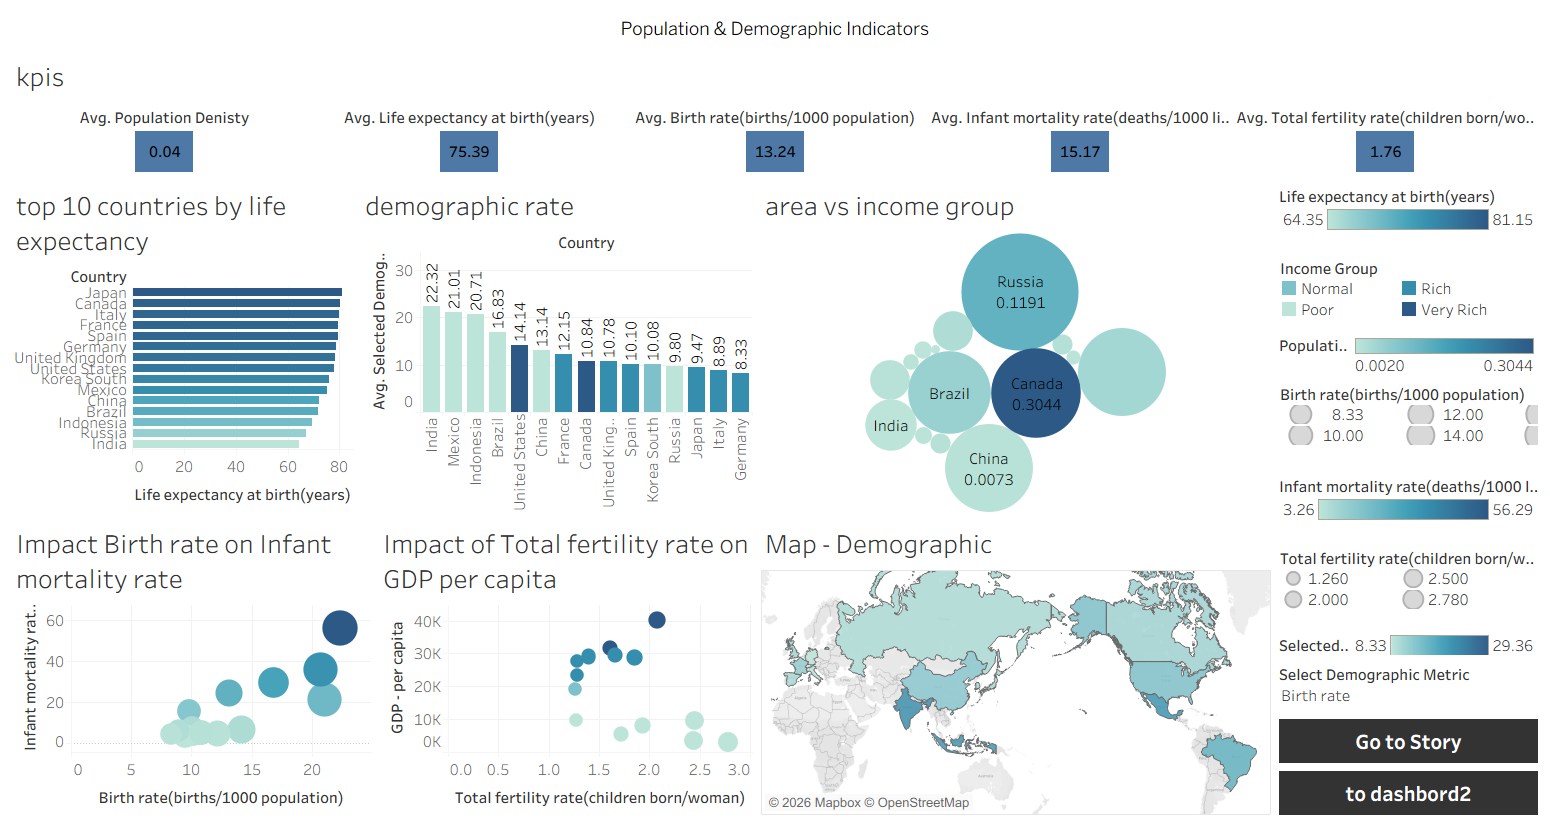

The page's visual inventory and layout, read from the dashboard file:
{"tool":"tableau","page":{"name":"Dashboard 1","canvas":[1550,827],"ordinal":0},"visuals":[{"type":"text","box":[8,8,1534,41]},{"type":"worksheet","title":"kpis 1","mark":"Square","box":[8,49,1534,129]},{"type":"worksheet","title":"top 10 countries by life expectancy","mark":"Automatic","rows":["Country"],"cols":["Life expectancy at birth(years)"],"box":[8,178,349.5,337.5]},{"type":"worksheet","title":"demographic rate","mark":"Automatic","rows":["Calculation_1860428019335172"],"cols":["Country"],"box":[357.5,178,399.3,337.5]},{"type":"worksheet","title":"area vs income group","mark":"Circle","box":[756.7,178,518.3,337.5]},{"type":"legend","title":"top 10 countries by life expectancy","param":"[federated.0arbnf50yyzaqr17demmi00kzyr3].[sum:Life expectancy at birth(years):qk","box":[1275,178,267,73]},{"type":"legend","title":"demographic rate","param":"[federated.0arbnf50yyzaqr17demmi00kzyr3].[none:Calculation_1860428013744130:nk]","box":[1275,251,267,78]},{"type":"legend","title":"area vs income group","param":"[federated.0arbnf50yyzaqr17demmi00kzyr3].[sum:Calculation_1860428013441025:qk]","box":[1275,329,267,48]},{"type":"legend","title":"Impact Birth rate on Infant mortality rate","param":"[federated.0arbnf50yyzaqr17demmi00kzyr3].[sum:Birth rate(births/1000 population)","box":[1275,377,267,92]},{"type":"legend","title":"Impact Birth rate on Infant mortality rate","param":"[federated.0arbnf50yyzaqr17demmi00kzyr3].[sum:Infant mortality rate(deaths/1000 ","box":[1275,469,267,73]},{"type":"worksheet","title":"Impact Birth rate on Infant mortality rate","mark":"Circle","rows":["Infant mortality rate(deaths/1000 live births)"],"cols":["Birth rate(births/1000 population)"],"box":[8,515.5,366.8,303.5]},{"type":"worksheet","title":"Impact of Total fertility rate on GDP per capita","mark":"Circle","rows":["GDP - per capita"],"cols":["Total fertility rate(children born/woman)"],"box":[374.8,515.5,382.2,303.5]},{"type":"worksheet","title":"Map - Demographic","mark":"Automatic","box":[757,515.5,518,303.5]},{"type":"legend","title":"Impact of Total fertility rate on GDP per capita","param":"[federated.0arbnf50yyzaqr17demmi00kzyr3].[sum:Total fertility rate(children born","box":[1275,542,267,85]},{"type":"legend","title":"Map - Demographic","param":"[federated.0arbnf50yyzaqr17demmi00kzyr3].[sum:Calculation_1860428019335172:qk]","box":[1275,627,267,32]},{"type":"parameter","param":"[Parameters].[Parameter 1860428018819075]","box":[1275,659,267,56]},{"type":"dashboard-object","box":[1275,715,267,52]},{"type":"dashboard-object","box":[1275,767,267,52]}]}

Visuals, with their boxes in screenshot pixels (x1, y1, x2, y2), scaled from the page's 1550x827 canvas onto the 1550x827 screenshot:
text: 8/8/1542/49
"kpis 1" worksheet (Square marks): 8/49/1542/178
"top 10 countries by life expectancy" worksheet: 8/178/358/516
"demographic rate" worksheet: 358/178/757/516
"area vs income group" worksheet (Circle marks): 757/178/1275/516
"top 10 countries by life expectancy" legend: 1275/178/1542/251
"demographic rate" legend: 1275/251/1542/329
"area vs income group" legend: 1275/329/1542/377
"Impact Birth rate on Infant mortality rate" legend: 1275/377/1542/469
"Impact Birth rate on Infant mortality rate" legend: 1275/469/1542/542
"Impact Birth rate on Infant mortality rate" worksheet (Circle marks): 8/516/375/819
"Impact of Total fertility rate on GDP per capita" worksheet (Circle marks): 375/516/757/819
"Map - Demographic" worksheet: 757/516/1275/819
"Impact of Total fertility rate on GDP per capita" legend: 1275/542/1542/627
"Map - Demographic" legend: 1275/627/1542/659
parameter: 1275/659/1542/715
dashboard-object: 1275/715/1542/767
dashboard-object: 1275/767/1542/819
